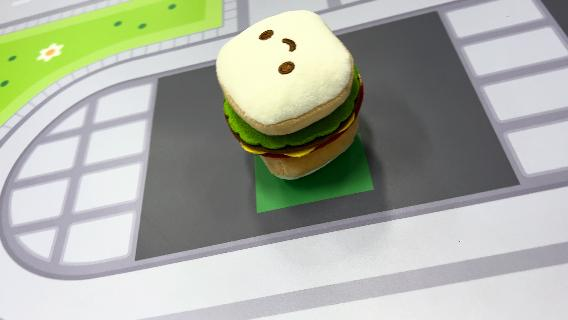sandwich: (213, 9, 367, 181)
